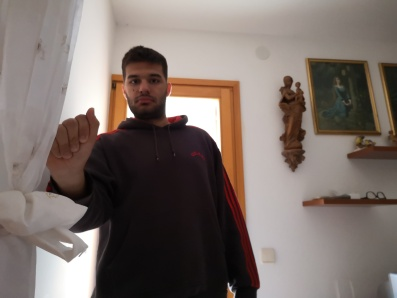A: (37, 104, 101, 176)
